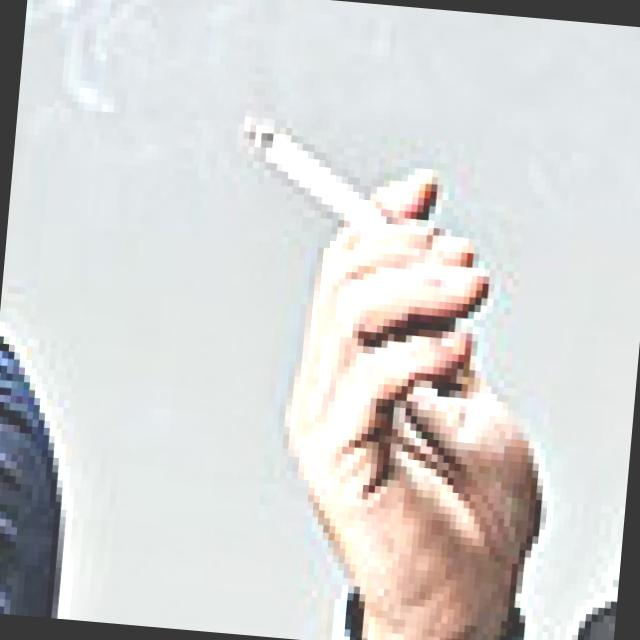smoke: (228, 107, 424, 262)
